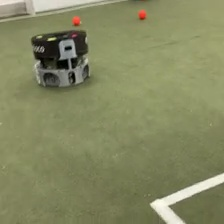ball: (138, 8, 147, 19), (72, 15, 81, 25)
robot: (30, 28, 93, 89)
